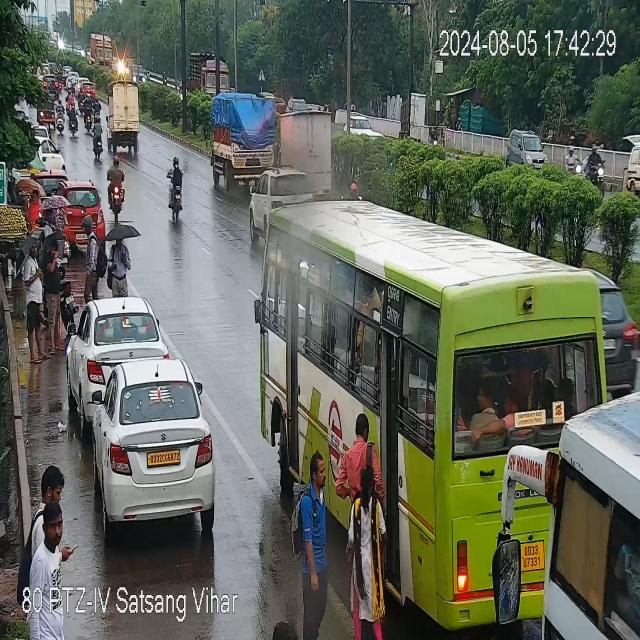2-wheelers: (106, 148, 129, 219), (164, 156, 188, 222), (588, 141, 612, 199), (92, 113, 104, 159), (425, 125, 440, 156), (68, 101, 79, 137), (55, 98, 65, 136), (84, 99, 92, 135), (66, 89, 75, 121), (93, 97, 101, 121)
auto: (38, 96, 56, 128)
bus: (260, 182, 616, 523), (498, 395, 640, 640)
car: (92, 361, 220, 528), (72, 296, 160, 406), (247, 168, 313, 244), (504, 121, 551, 178), (63, 184, 101, 240), (347, 108, 387, 145), (31, 136, 69, 173), (79, 82, 97, 96)
pedestrian: (17, 466, 74, 635), (284, 446, 328, 640), (344, 463, 388, 640), (342, 403, 382, 495), (20, 239, 47, 366), (40, 242, 64, 353), (80, 212, 104, 304), (110, 224, 133, 297)
truck: (211, 92, 282, 186), (279, 100, 338, 198), (185, 51, 235, 108), (107, 79, 141, 155), (89, 31, 115, 74)
